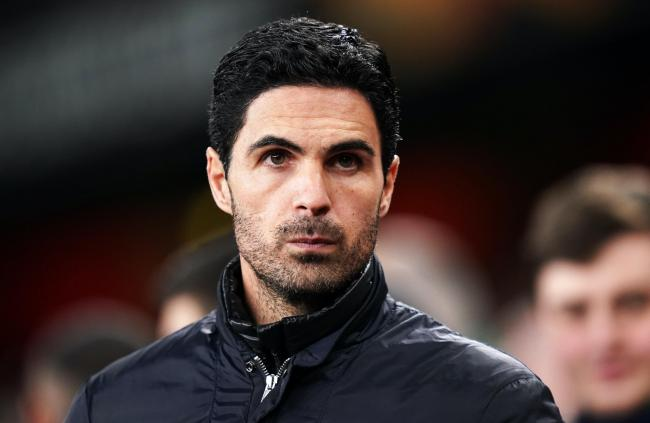bare: (229, 180, 382, 291)
